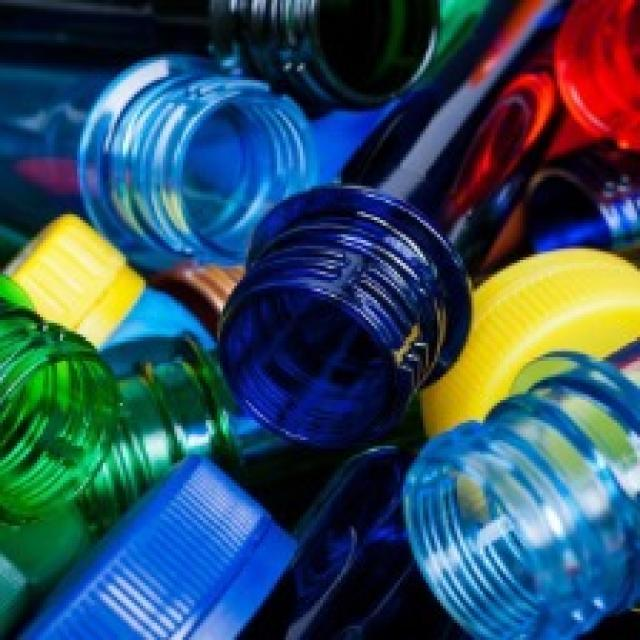plastic: (233, 188, 444, 453)
